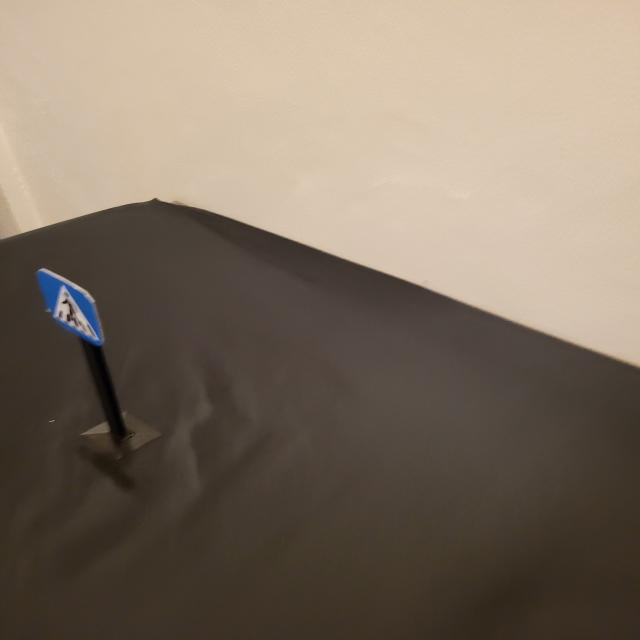crosswalk: (32, 265, 107, 345)
